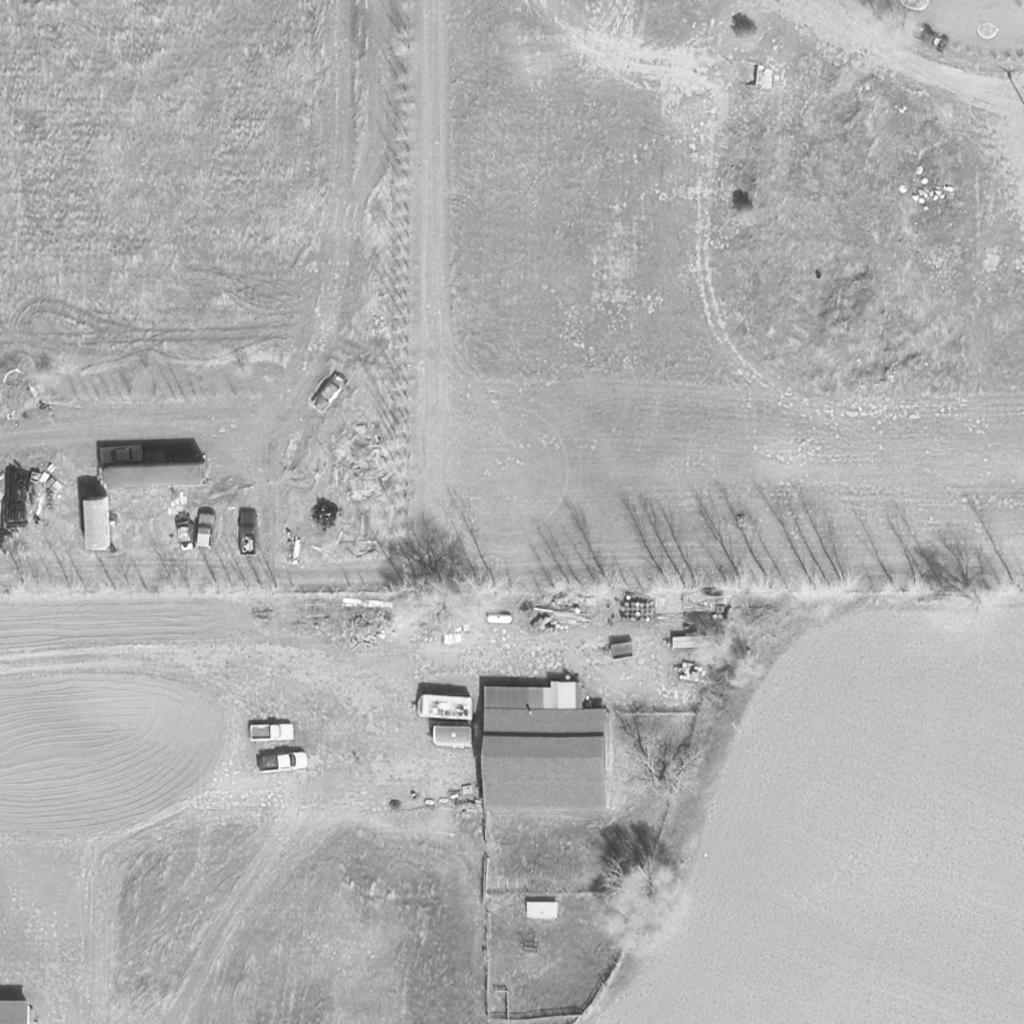vehicle: (309, 372, 353, 412), (83, 498, 113, 550), (416, 695, 474, 719), (259, 751, 309, 773), (431, 725, 473, 749), (240, 507, 260, 557), (99, 446, 143, 466), (174, 512, 196, 550), (248, 725, 296, 741), (198, 512, 216, 552)
